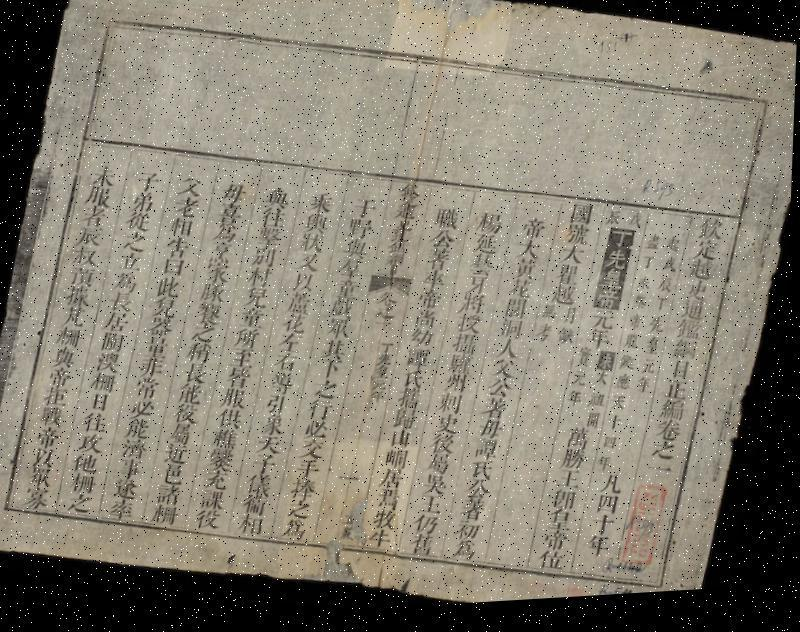c: (21, 482, 58, 512), (432, 207, 466, 238), (593, 291, 627, 321), (206, 446, 240, 476), (246, 472, 280, 502), (474, 212, 508, 242), (214, 203, 247, 233), (262, 185, 296, 214), (150, 502, 185, 530), (306, 190, 338, 220), (585, 537, 618, 566), (542, 532, 576, 560), (650, 444, 684, 472), (65, 490, 99, 518), (671, 344, 704, 372), (109, 496, 142, 524), (409, 534, 442, 562), (249, 245, 282, 273), (538, 552, 572, 579), (238, 514, 272, 541), (66, 263, 100, 290), (644, 466, 680, 491), (388, 222, 418, 252), (548, 512, 580, 540), (566, 430, 598, 458), (89, 162, 121, 190), (562, 451, 594, 479), (472, 440, 504, 468), (138, 354, 170, 382), (467, 256, 499, 284), (350, 196, 382, 224), (688, 264, 720, 292), (224, 366, 256, 394), (437, 394, 469, 422), (290, 478, 322, 506), (244, 266, 276, 294), (195, 302, 227, 330), (424, 250, 456, 278), (450, 336, 482, 364), (345, 218, 377, 246), (82, 408, 114, 436), (460, 500, 492, 528), (80, 203, 112, 231), (696, 222, 728, 250), (482, 399, 514, 427), (655, 424, 688, 451), (659, 404, 692, 431), (195, 508, 228, 535), (301, 214, 334, 241), (70, 243, 103, 270), (72, 450, 106, 476), (207, 242, 238, 270), (163, 235, 194, 263), (383, 245, 414, 273), (422, 475, 454, 502), (200, 488, 232, 515), (125, 416, 157, 443), (430, 435, 462, 462), (186, 340, 218, 367), (307, 399, 339, 426), (156, 482, 188, 509), (258, 207, 290, 234), (84, 183, 116, 210), (70, 470, 102, 497), (549, 288, 582, 314), (74, 225, 107, 251), (63, 284, 96, 310), (297, 234, 330, 260), (220, 388, 253, 414), (211, 428, 244, 454), (213, 220, 243, 248), (286, 292, 316, 320), (519, 220, 550, 247), (134, 375, 165, 402), (405, 350, 436, 377), (95, 349, 126, 376), (114, 476, 145, 503), (552, 491, 584, 517), (590, 518, 622, 544), (414, 514, 446, 540), (456, 522, 488, 548), (242, 494, 274, 520), (486, 380, 518, 406), (147, 316, 179, 342), (55, 324, 87, 350), (89, 370, 121, 396), (252, 453, 284, 479), (516, 242, 548, 268), (233, 328, 265, 354), (471, 237, 503, 263), (216, 408, 248, 434), (199, 282, 231, 308), (336, 259, 368, 285), (392, 410, 424, 436), (458, 296, 490, 322), (324, 319, 356, 345), (78, 430, 110, 456), (42, 384, 74, 410), (295, 458, 327, 484), (120, 436, 152, 462), (203, 469, 236, 494), (568, 207, 598, 234), (397, 390, 427, 417), (220, 181, 250, 208), (463, 276, 494, 302), (239, 308, 270, 334), (329, 298, 360, 324), (554, 268, 585, 294), (243, 287, 274, 313), (182, 362, 213, 388), (103, 310, 134, 336), (455, 316, 486, 342), (176, 175, 207, 201), (60, 304, 91, 330), (557, 472, 589, 497), (254, 227, 286, 252), (466, 481, 498, 506), (418, 496, 450, 521), (34, 424, 66, 449), (276, 333, 308, 358), (608, 232, 640, 257), (255, 435, 288, 459), (51, 344, 81, 370), (204, 262, 234, 288), (284, 520, 314, 546), (128, 190, 158, 216), (164, 441, 194, 467), (295, 252, 325, 278), (120, 230, 150, 256), (152, 296, 182, 322), (270, 372, 300, 398), (373, 510, 403, 536), (260, 415, 290, 441), (178, 382, 208, 408), (156, 276, 186, 302), (322, 340, 352, 366), (112, 270, 142, 296), (133, 168, 163, 194), (680, 304, 710, 330), (39, 403, 70, 428), (299, 439, 330, 464), (434, 417, 465, 442), (172, 403, 203, 428), (384, 450, 415, 475), (511, 262, 542, 287), (380, 470, 411, 495), (559, 249, 590, 274), (563, 228, 594, 253), (469, 462, 500, 487), (143, 336, 174, 361), (124, 210, 156, 234), (446, 358, 478, 382), (589, 316, 621, 340), (286, 500, 318, 524), (692, 246, 724, 270), (332, 280, 364, 304), (601, 476, 629, 503), (291, 272, 320, 298), (503, 300, 532, 326), (162, 462, 191, 488), (28, 464, 58, 489), (378, 490, 408, 515), (281, 314, 311, 339), (168, 216, 198, 241), (172, 196, 202, 221), (664, 385, 694, 410), (47, 364, 77, 389), (312, 380, 343, 404), (676, 326, 707, 350), (442, 376, 473, 400), (420, 272, 451, 296), (272, 353, 303, 377), (429, 232, 460, 256), (130, 398, 161, 422), (477, 422, 508, 446), (427, 456, 458, 480), (606, 254, 634, 280), (170, 422, 198, 448), (596, 498, 625, 523), (109, 290, 138, 315), (100, 330, 129, 355), (416, 291, 445, 316), (412, 312, 441, 337), (454, 542, 483, 567), (32, 444, 62, 468), (304, 420, 334, 444), (507, 282, 537, 306), (409, 331, 439, 355), (160, 256, 190, 280), (491, 362, 521, 386), (118, 457, 148, 481), (317, 361, 347, 385), (190, 324, 221, 347), (586, 334, 617, 357), (229, 349, 260, 372), (496, 342, 524, 367), (685, 286, 714, 310), (117, 251, 146, 275), (499, 322, 528, 346), (369, 530, 398, 554), (342, 241, 372, 264), (670, 366, 697, 391), (396, 184, 424, 208), (88, 390, 116, 414), (402, 372, 430, 396), (390, 431, 418, 455), (266, 394, 294, 418), (600, 273, 629, 296), (372, 309, 401, 332), (338, 472, 368, 493), (394, 204, 422, 226), (597, 356, 621, 380), (576, 352, 598, 376), (377, 294, 403, 314), (557, 331, 580, 353), (536, 327, 558, 350), (645, 342, 666, 366), (648, 322, 670, 344), (585, 415, 607, 437), (656, 282, 678, 304), (571, 374, 593, 396), (630, 298, 652, 320), (618, 359, 640, 381), (622, 338, 644, 360), (645, 238, 666, 261), (540, 309, 562, 330), (602, 439, 624, 460), (610, 399, 632, 420), (568, 392, 589, 414), (589, 396, 611, 417), (660, 262, 682, 283), (615, 378, 636, 400), (665, 241, 686, 262), (636, 382, 657, 403), (562, 311, 582, 333), (606, 418, 628, 438), (628, 318, 648, 340), (598, 458, 618, 479), (640, 363, 660, 384), (640, 259, 660, 280), (604, 215, 626, 234), (593, 377, 615, 396), (636, 281, 656, 301), (626, 217, 646, 236), (654, 302, 672, 321), (378, 342, 398, 359), (374, 368, 392, 386), (378, 356, 397, 372), (372, 382, 390, 397), (372, 394, 388, 408)
